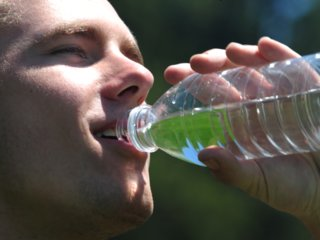drinking: (1, 1, 241, 220)
